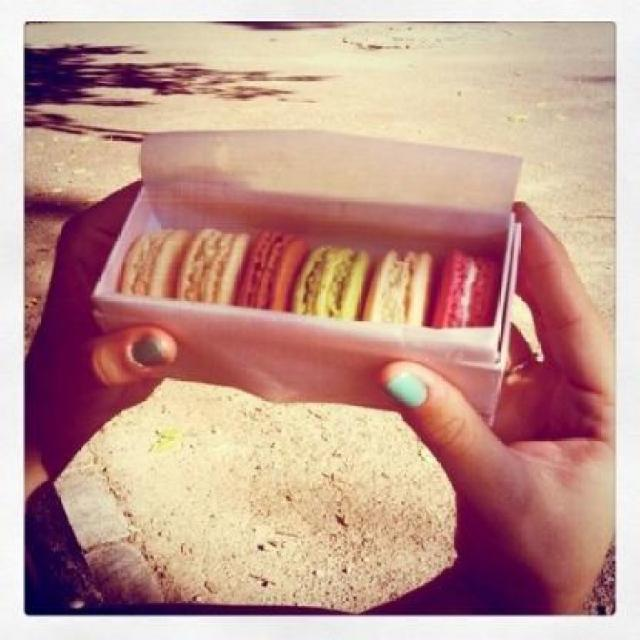Macaron: (112, 212, 537, 376)
